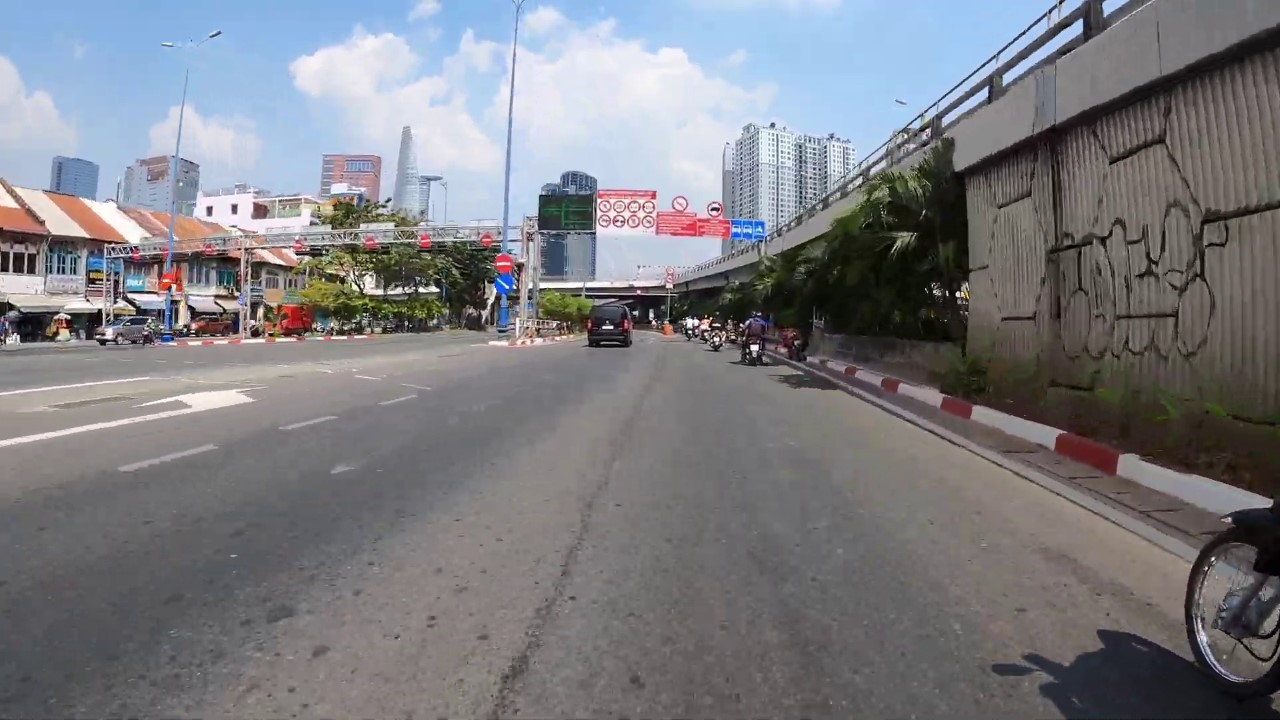cam_nguoc_chieu: (495, 254, 514, 273), (158, 272, 174, 291), (419, 234, 432, 248), (481, 234, 493, 247), (363, 237, 375, 249), (293, 239, 304, 251), (204, 244, 214, 255), (131, 249, 140, 260)
huong_phai_di_vong: (494, 274, 514, 293)
